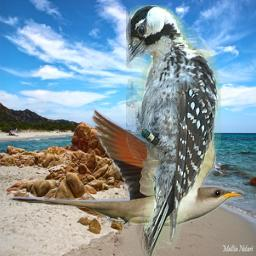Cuckoo: (8, 62, 244, 226)
Woodpecker: (126, 5, 221, 256)
